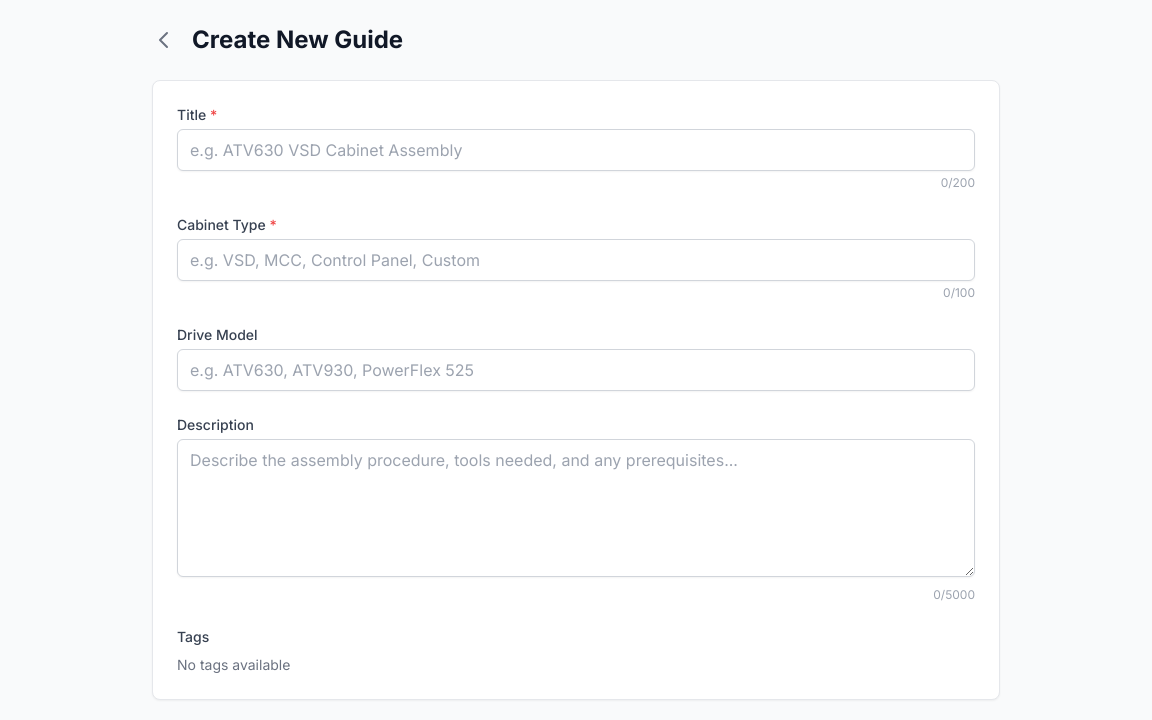
Test: GuideEditPage › validation › shows error when title is too short
The width and height of the screenshot is (1152, 720).
In the field with id "title": (576, 150) [177, 129, 975, 171], type "ab"
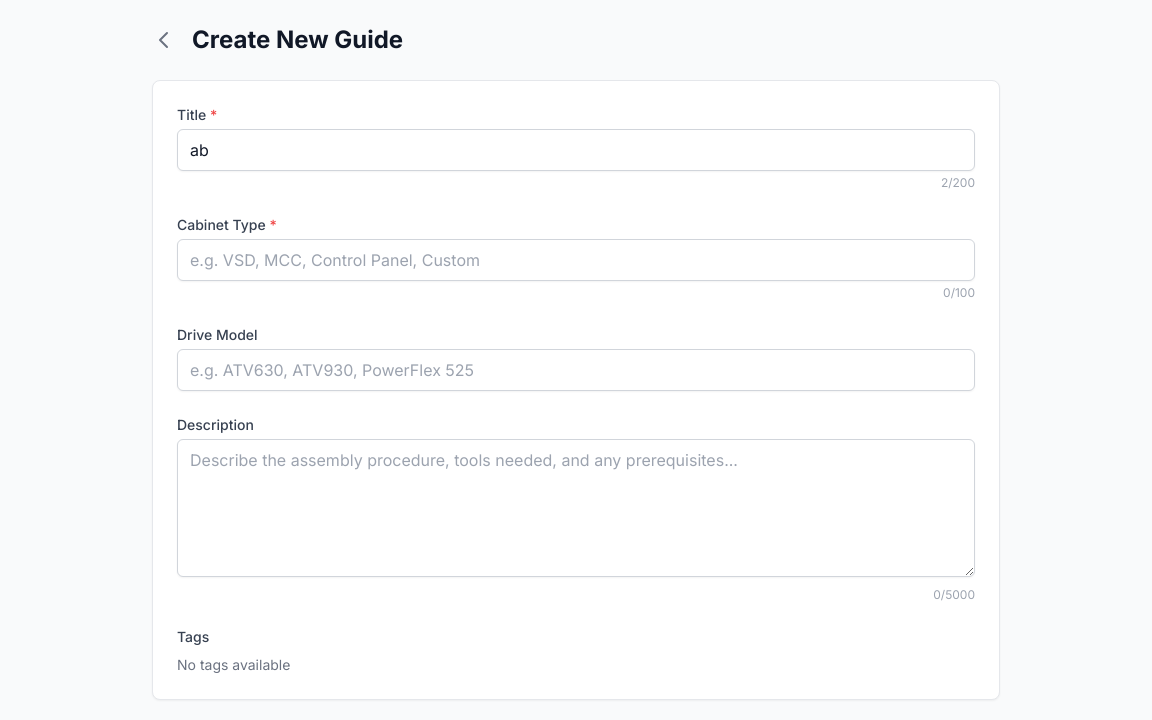
Leave the field with id "title", box [177, 129, 975, 171]
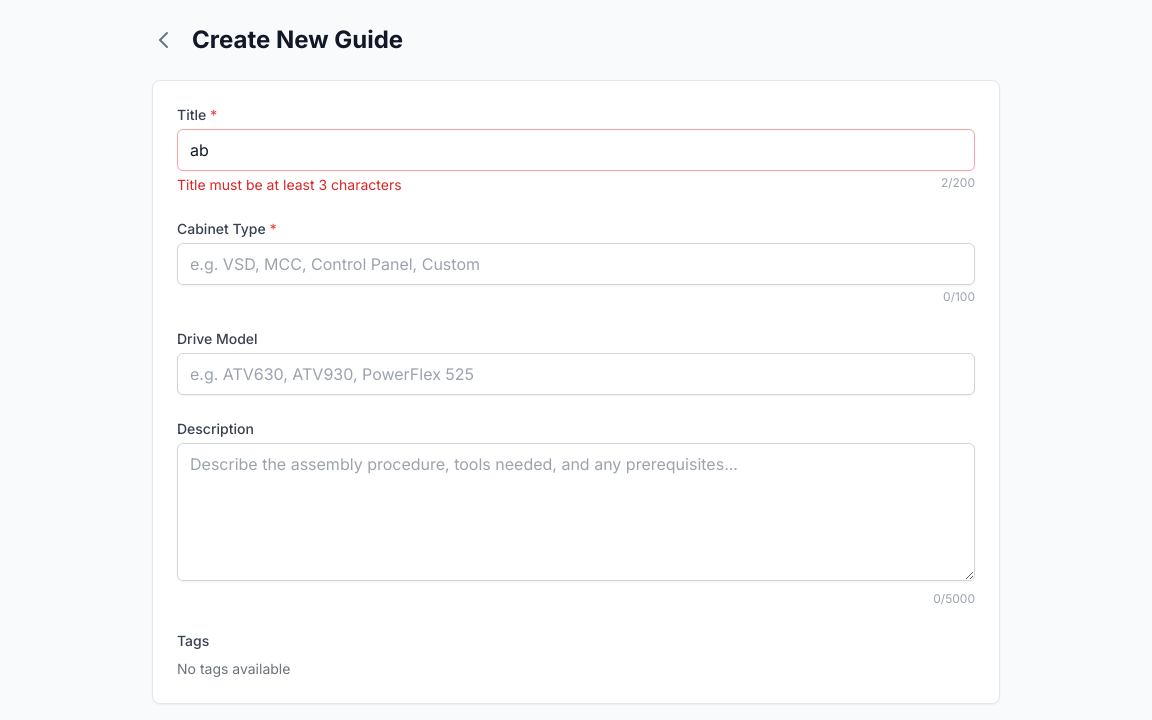
Expected: the text "Title must be at least 3 characters" is shown, [177, 175, 402, 195]
